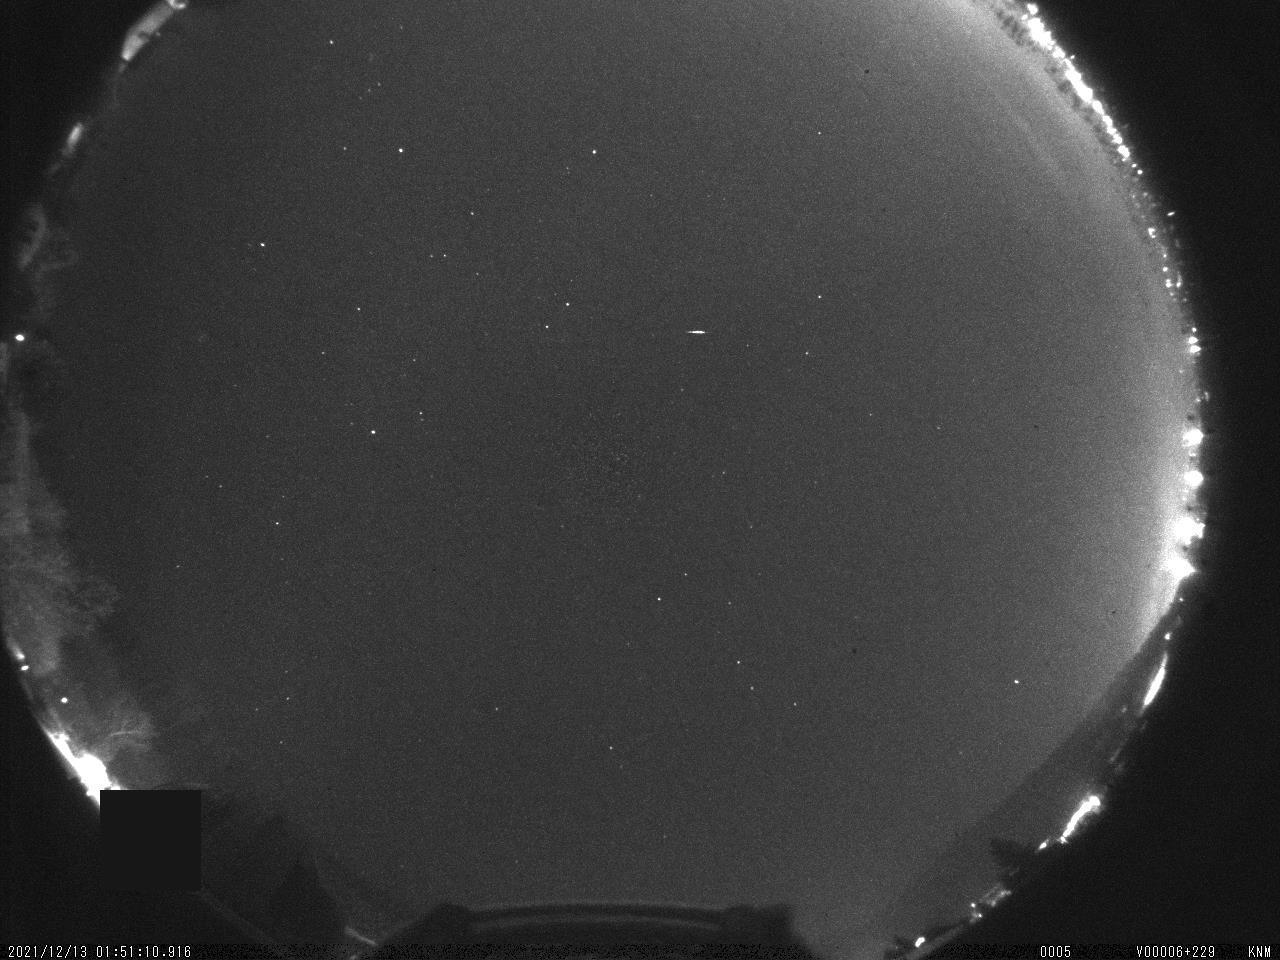Meteor: (680, 324, 714, 343)
